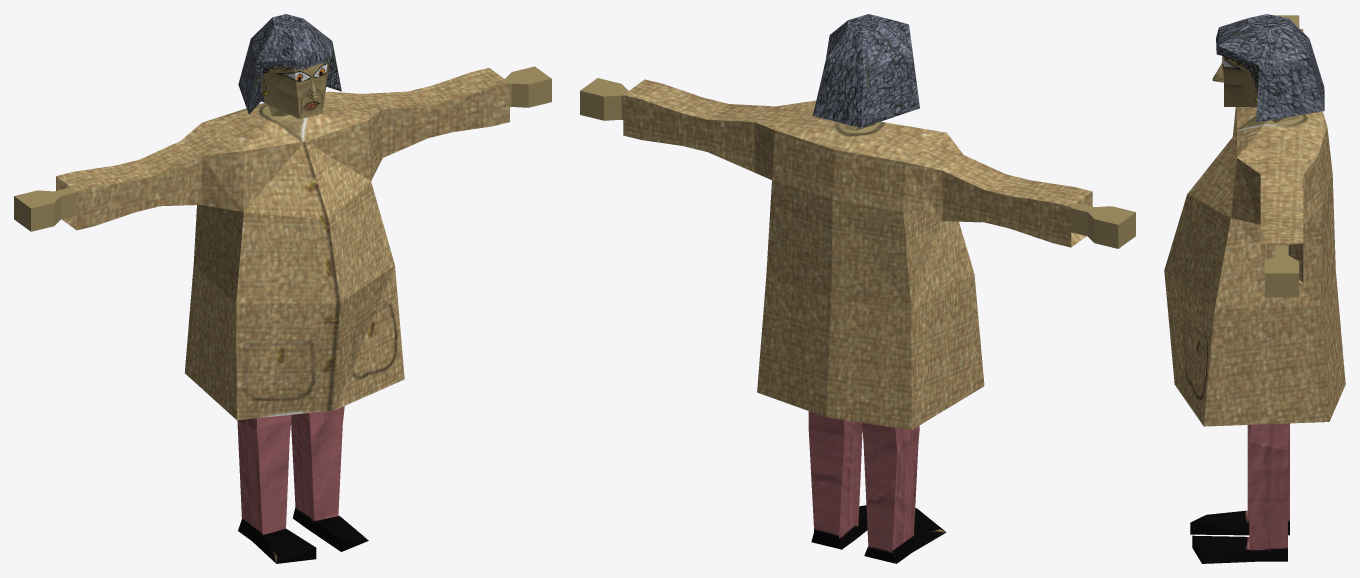
The model's file is fat_merchant.obj.
The picture shows the model from 3 angles, left to right: view 1: azimuth 30°, elevation 25°; view 2: azimuth 150°, elevation 25°; view 3: azimuth 270°, elevation 25°; orthographic projection. The views are drawn at different scales.
Parts seen in each view (by area): view 1: merchant; view 2: merchant; view 3: merchant.
Boxes of the visible parts, x1,y1,x2,y2 form: merchant: (14,14,551,563); merchant: (580,14,1135,563); merchant: (1164,14,1345,563).
Size of the model in its own units: 66.73 by 61.9 by 19.63.
Materials: 1 (1 with a texture image).
